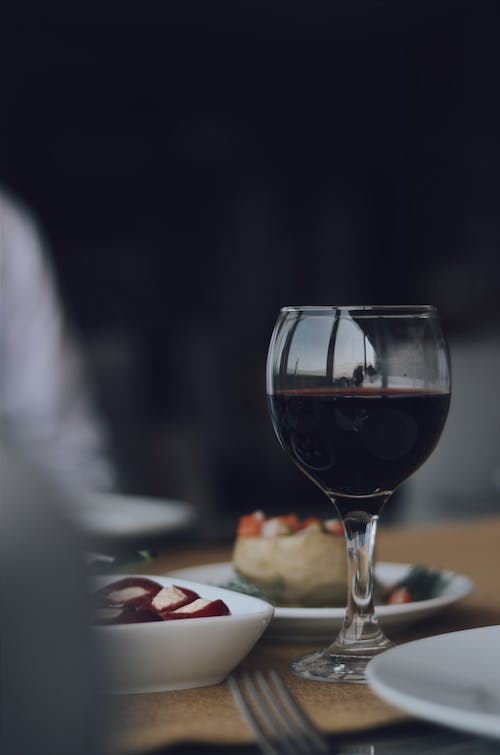alcohol: (265, 304, 453, 687)
